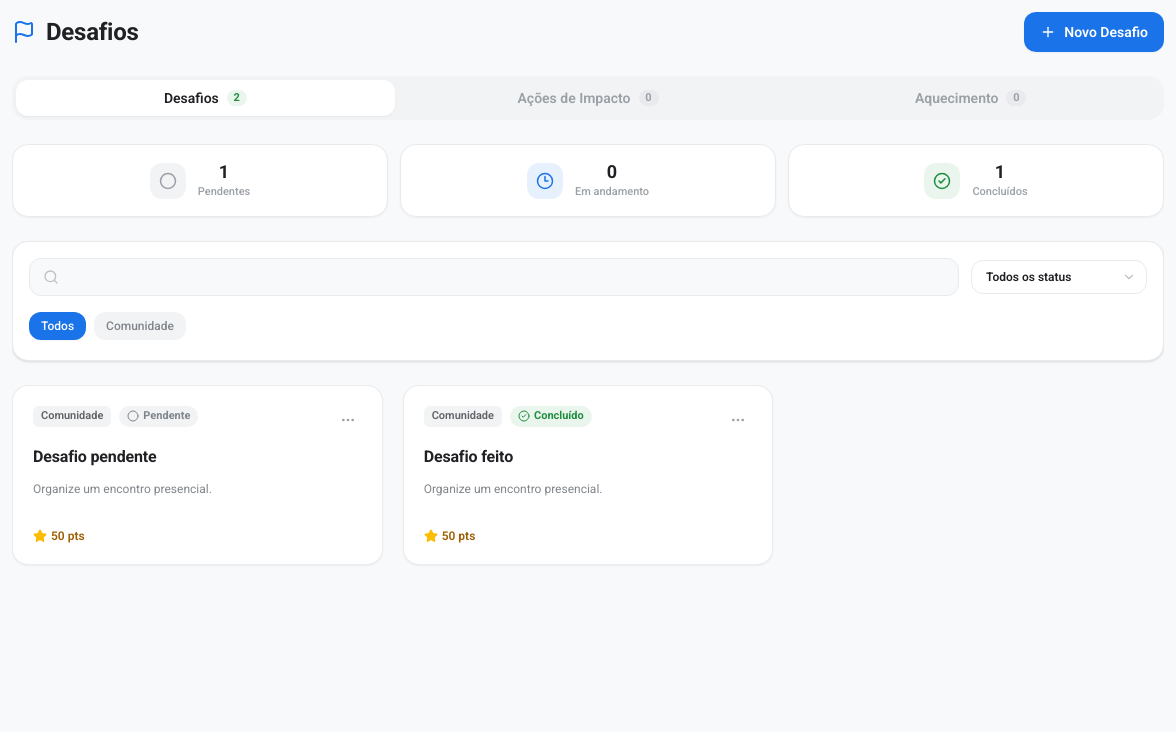
ChallengesModule › filters by status
Click the button with aria-label "Filtrar por status": [1059, 277] box [971,260,1147,294]
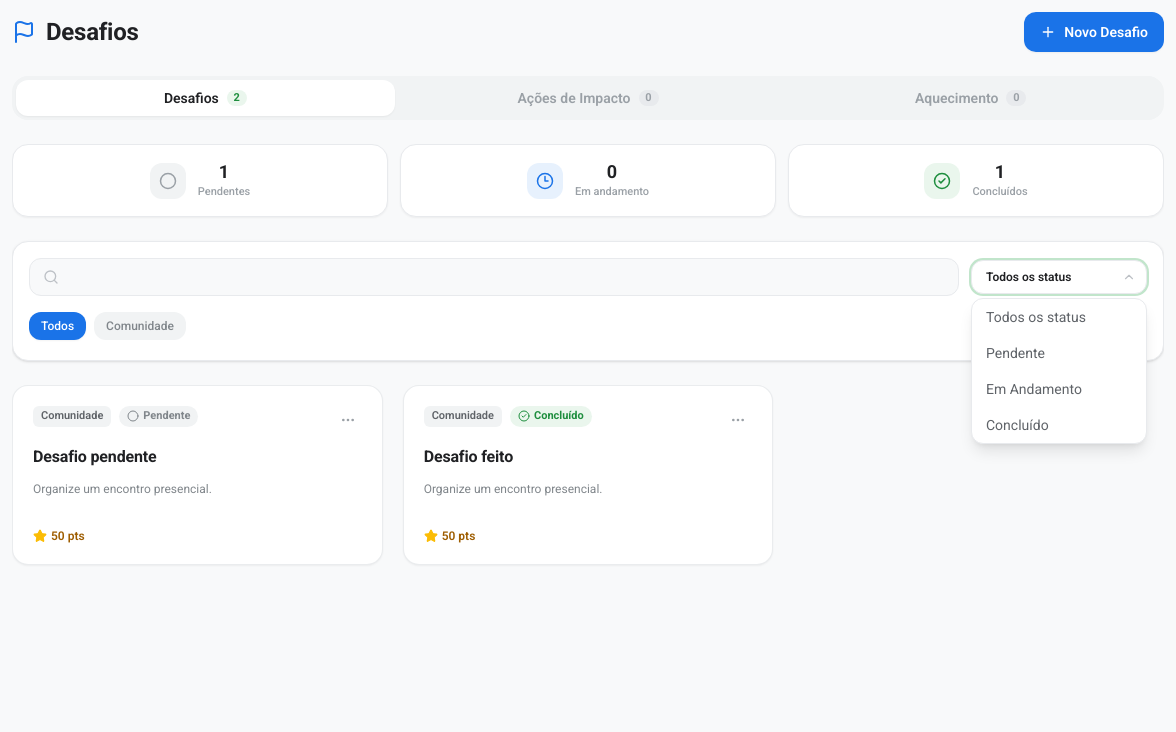
Click the option "Concluído": [1059, 425] box [972,407,1146,443]
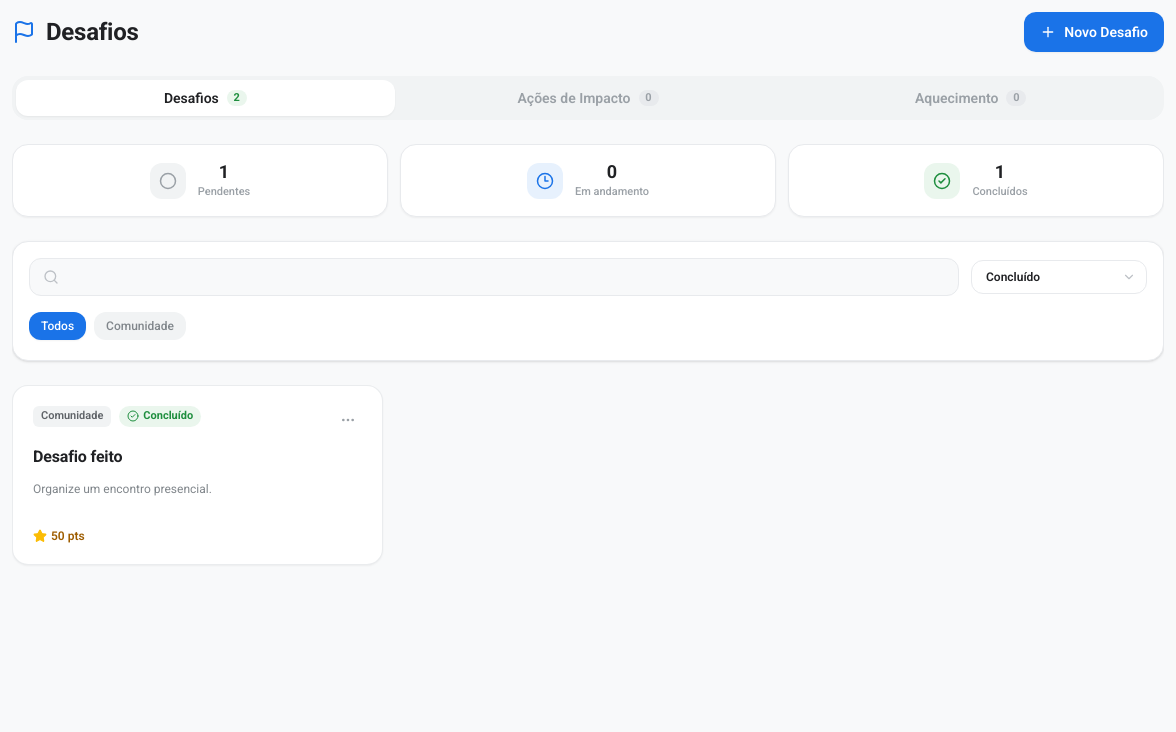
Expected: the heading "Desafio feito" is shown, [33,447,122,466]
Now the heading "Desafio pendente" is gone
